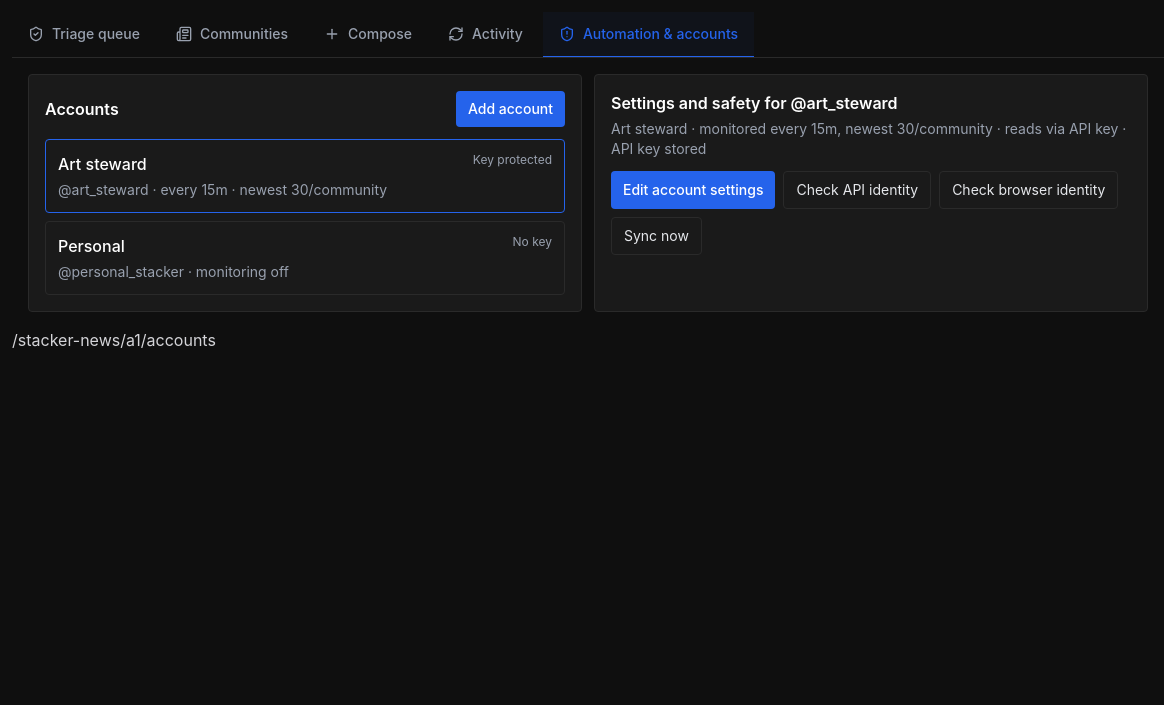
Scenario: StackerNews › discards resource responses for an account that is no longer selected
Click the button "Personal No key @personal_stacker · monitoring off" at coordinates (91, 246), box 45,221 -> 565,295
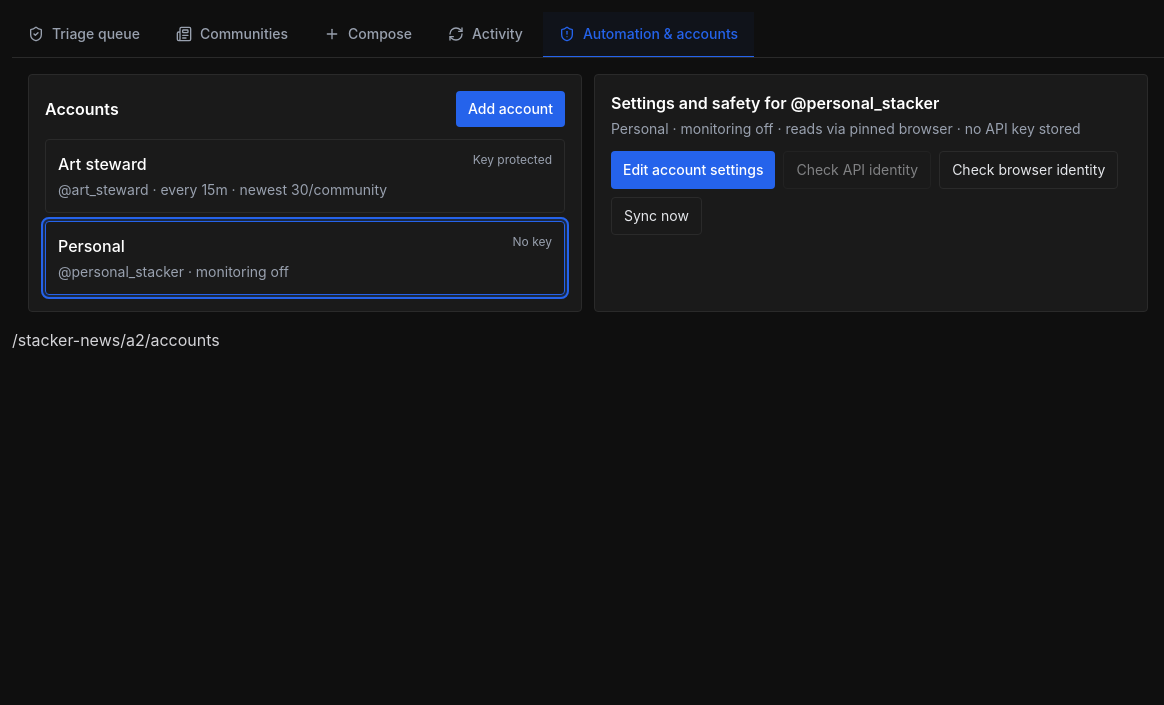
Click the tab "Communities" at coordinates (232, 35), box 160,12 -> 304,58
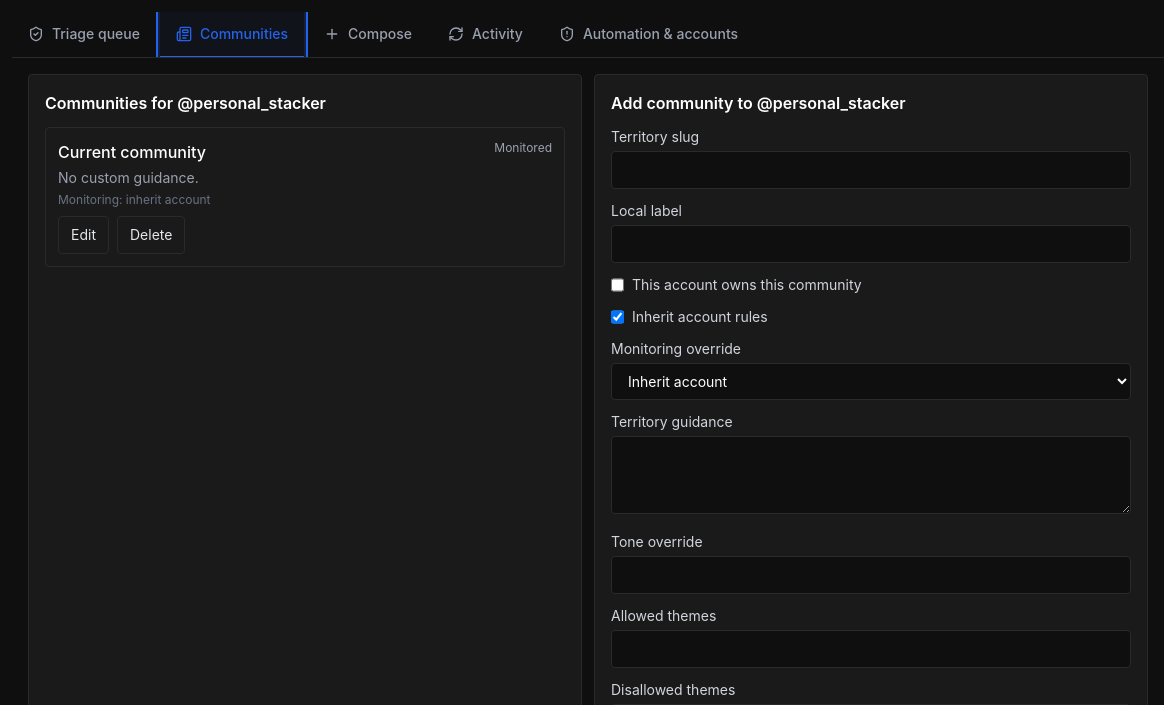
Expected: the text "Current community" is shown, 58,140 -> 206,164
